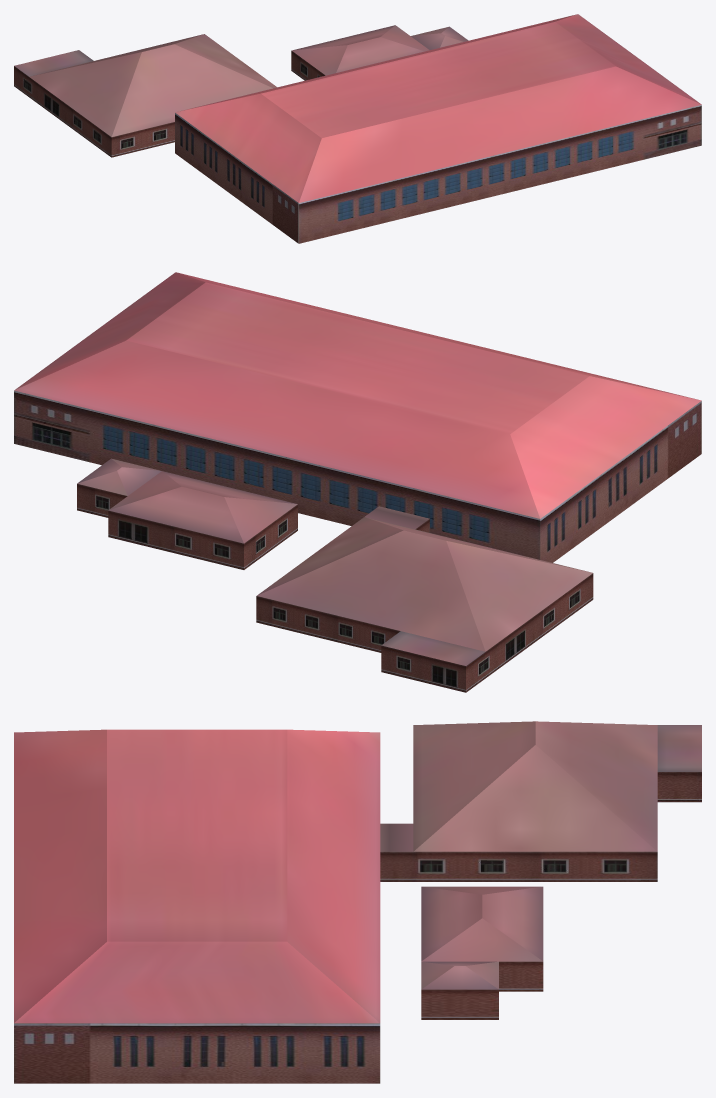
The model's file is yyg.gltf.
The picture shows the model from 3 angles, top to bottom: view 1: azimuth 30°, elevation 25°; view 2: azimuth 150°, elevation 25°; view 3: azimuth 270°, elevation 25°; orthographic projection. The views are drawn at different scales.
Visible parts, largest first — view 1: Mesh01#43, Mesh02#45; view 2: Mesh01#43, Mesh02#45; view 3: Mesh01#43, Mesh02#45.
Part boxes in pixels (bbox=[...]): Mesh01#43: bbox=[14, 14, 701, 243]; Mesh02#45: bbox=[291, 25, 468, 80]; Mesh01#43: bbox=[14, 272, 701, 692]; Mesh02#45: bbox=[77, 458, 297, 569]; Mesh01#43: bbox=[14, 721, 701, 1083]; Mesh02#45: bbox=[421, 886, 543, 1019].
Bounding box in the file's own units: 0.07 × 0.0102 × 0.062.
2 materials, 2 textured.
